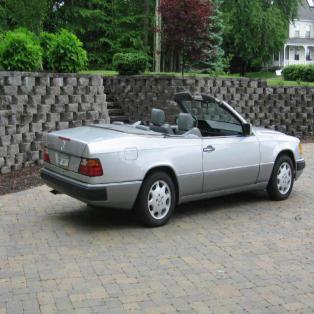Auto: (27, 75, 313, 246)
